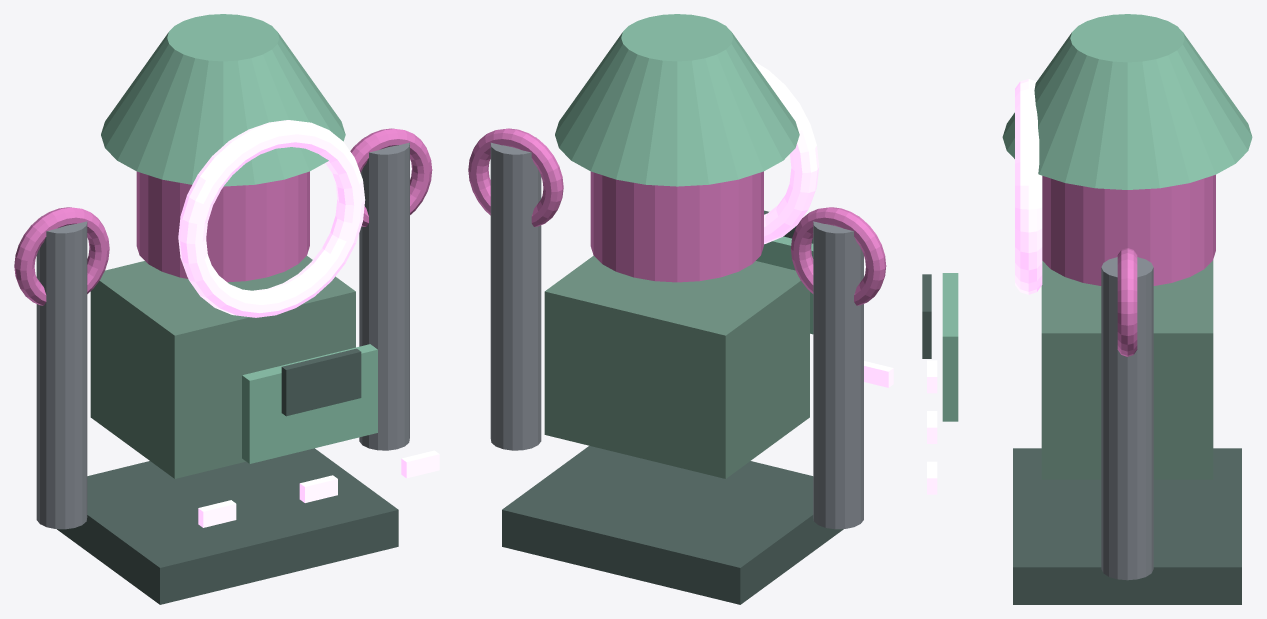
File: asset.glb
3 renders of one model, left to right at view 1: azimuth 30°, elevation 25°; view 2: azimuth 150°, elevation 25°; view 3: azimuth 270°, elevation 25°, orthographic. The views are drawn at different scales.
Visible parts, largest first — view 1: Housing, Foot, TopCap, SidePost_-1, CoreHalo, Core, SidePost_1, FrontInset, ControlFace, SideRing_-1, SideRing_1, FunctionalTrim_1 (+2 smaller); view 2: Housing, Foot, TopCap, Core, SidePost_1, SidePost_-1, CoreHalo, SideRing_-1, SideRing_1, FrontInset, FunctionalTrim_0; view 3: TopCap, Foot, Housing, SidePost_1, Core, CoreHalo, FrontInset, SideRing_1, ControlFace.
Part boxes in pixels (<box>): Housing: <box>90,256,355,478</box>; Foot: <box>57,448,398,604</box>; TopCap: <box>101,14,345,186</box>; SidePost_-1: <box>36,216,87,529</box>; CoreHalo: <box>178,120,365,317</box>; Core: <box>136,171,309,282</box>; SidePost_1: <box>359,137,409,450</box>; FrontInset: <box>242,344,377,463</box>; ControlFace: <box>281,348,361,416</box>; SideRing_-1: <box>14,207,109,305</box>; SideRing_1: <box>350,128,432,226</box>; FunctionalTrim_1: <box>299,475,337,502</box>; Housing: <box>544,255,809,478</box>; Foot: <box>502,446,843,604</box>; TopCap: <box>555,14,799,186</box>; Core: <box>590,171,763,282</box>; SidePost_1: <box>490,137,541,450</box>; SidePost_-1: <box>813,216,863,529</box>; CoreHalo: <box>752,60,819,244</box>; SideRing_-1: <box>791,207,886,305</box>; SideRing_1: <box>468,128,563,226</box>; FrontInset: <box>756,236,813,334</box>; FunctionalTrim_0: <box>864,361,893,387</box>; TopCap: <box>1002,14,1252,189</box>; Foot: <box>1013,448,1241,604</box>; Housing: <box>1041,260,1213,479</box>; SidePost_1: <box>1101,257,1153,580</box>; Core: <box>1042,174,1215,285</box>; CoreHalo: <box>1015,79,1042,294</box>; FrontInset: <box>942,273,958,421</box>; SideRing_1: <box>1117,248,1137,356</box>; ControlFace: <box>922,274,931,358</box>.
Bounding box in the file's own units: 1.88 × 2.15 × 1.27.
